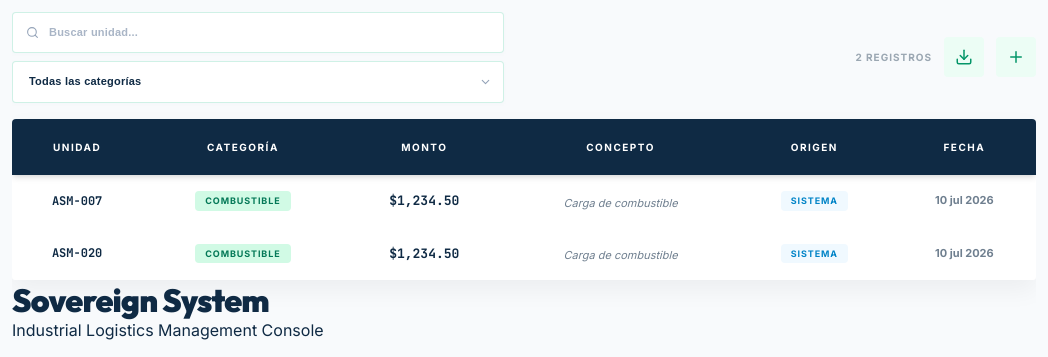
Test: EgressTable — unit autocomplete › opens suggestions on focus/typing and selects a unit
expect the table with test id "egress-table" is shown: met, box [12,119,1036,280]
Type "asm" into the field with placeholder "Buscar unidad..." at (258, 33), box [12,12,504,53]
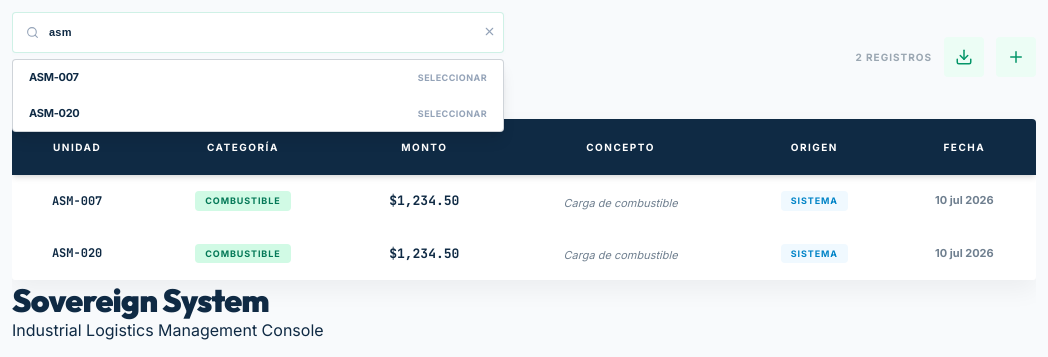
Click the text "ASM-007" at (54, 78), box [29,70,79,86]
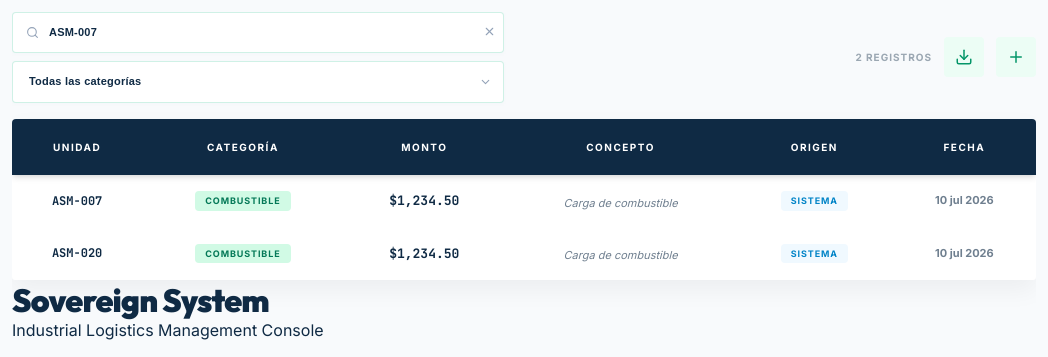
expect the field with placeholder "Buscar unidad..." holds "ASM-007": met, box [12,12,504,53]
